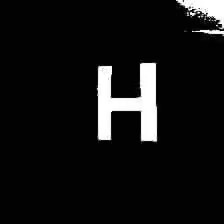LTR_H: (87, 56, 166, 150)
